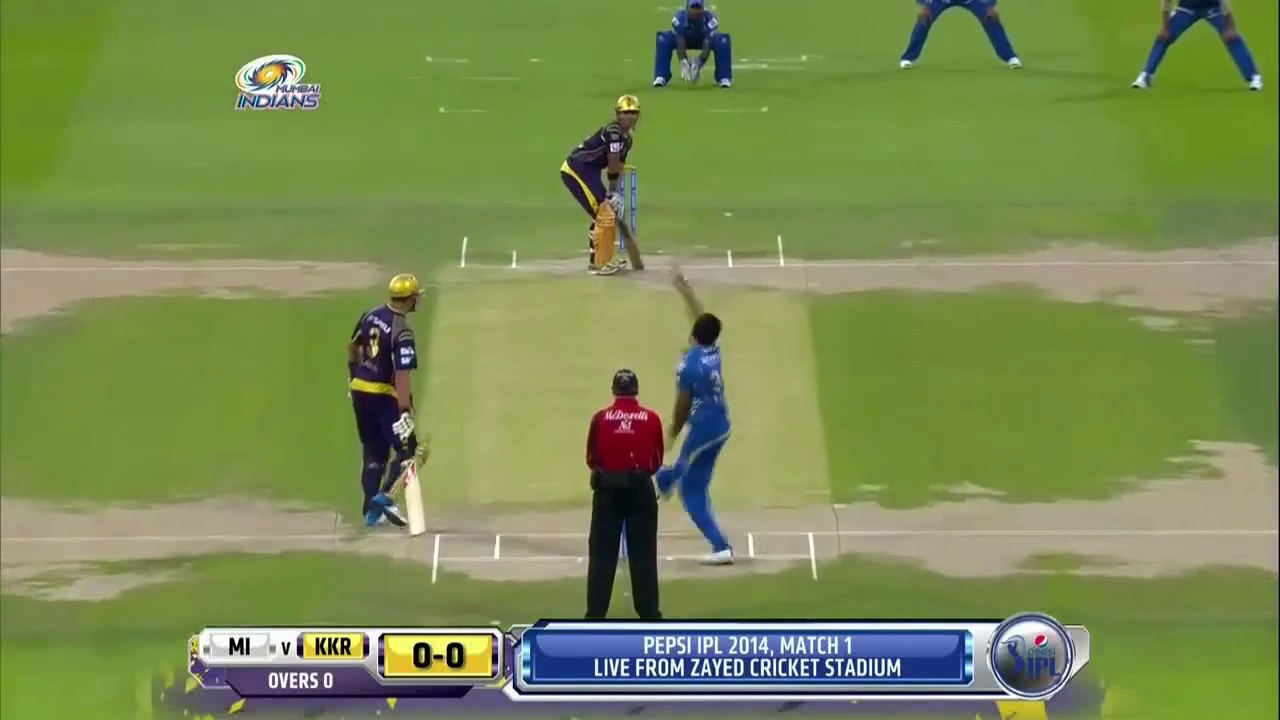bat: (401, 459, 425, 536), (621, 222, 646, 272)
